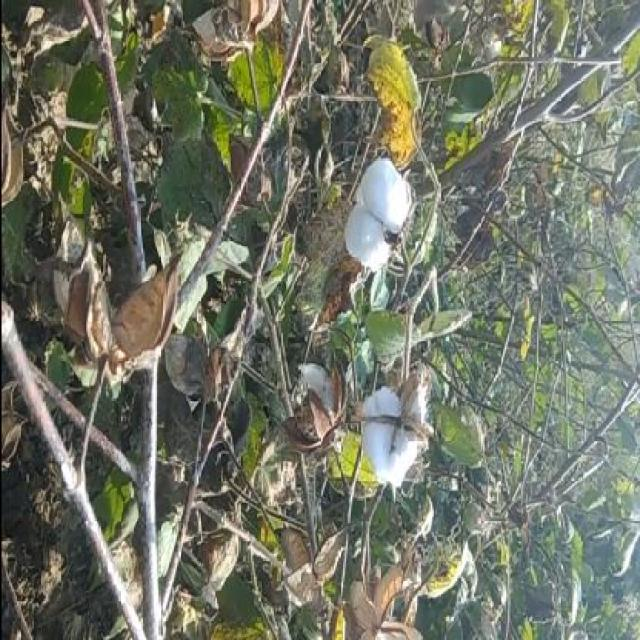cotton_ready: (352, 359, 442, 495), (341, 135, 421, 283)
